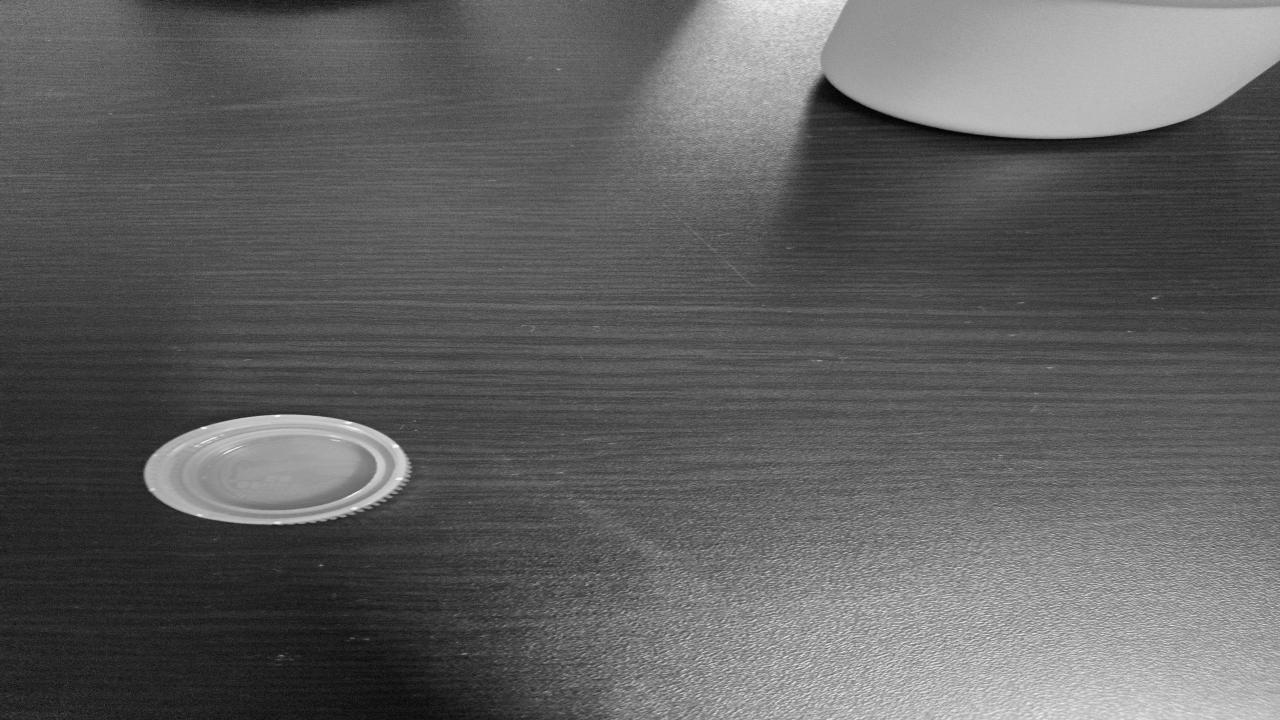bottle_cap: (140, 412, 429, 528)
